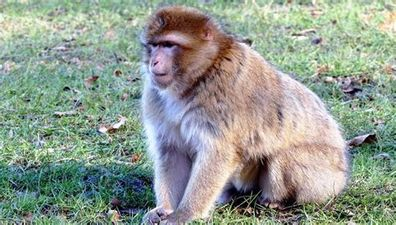monkey: (91, 29, 385, 225)
